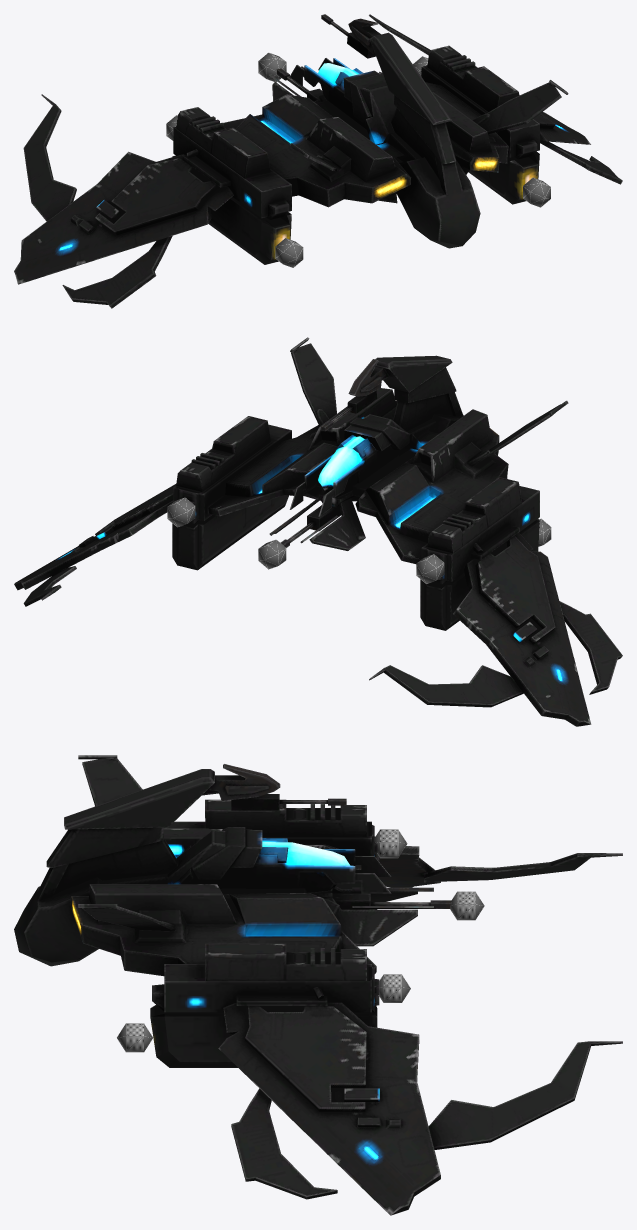
Rendered from spaceship.glb.
The picture shows the model from 3 angles, top to bottom: view 1: azimuth 30°, elevation 25°; view 2: azimuth 150°, elevation 25°; view 3: azimuth 270°, elevation 25°; orthographic projection. The views are drawn at different scales.
Parts seen in each view (by area): view 1: cyborg_ship, engine_0, engine_1, laserpoint_centerFront; view 2: cyborg_ship, laserpoint_centerFront, laserpoint_rightFrontInner, laserpoint_leftFrontInner; view 3: cyborg_ship, engine_1, laserpoint_centerFront, laserpoint_leftFrontInner, laserpoint_rightFrontInner.
Boxes of the visible parts, x1,y1,x2,y2 form: cyborg_ship: [14, 14, 622, 308]; engine_0: [275, 238, 303, 267]; engine_1: [523, 177, 550, 207]; laserpoint_centerFront: [258, 52, 286, 82]; cyborg_ship: [14, 337, 622, 726]; laserpoint_centerFront: [258, 539, 286, 569]; laserpoint_rightFrontInner: [167, 497, 195, 527]; laserpoint_leftFrontInner: [416, 554, 444, 583]; cyborg_ship: [14, 755, 622, 1215]; engine_1: [117, 1023, 152, 1052]; laserpoint_centerFront: [450, 891, 484, 920]; laserpoint_leftFrontInner: [374, 829, 407, 858]; laserpoint_rightFrontInner: [378, 974, 410, 1002].
Bounding box in the file's own units: 22.04 × 8.94 × 17.25.
6 materials, 6 textured.
